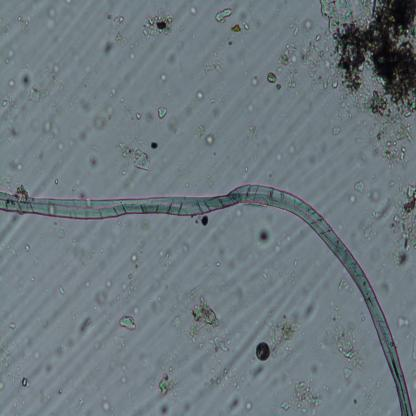Anthropogenic: (0, 182, 416, 414)
Background material: (306, 0, 416, 166), (184, 296, 232, 354), (392, 181, 416, 272), (333, 316, 366, 380), (206, 351, 245, 394), (361, 183, 388, 242), (280, 378, 322, 414), (276, 27, 300, 86), (40, 59, 70, 102), (117, 140, 153, 173), (267, 317, 300, 349), (194, 45, 224, 80), (0, 332, 21, 379), (66, 238, 100, 266), (141, 11, 176, 38), (14, 1, 37, 37), (39, 111, 64, 142), (42, 1, 60, 37), (109, 14, 128, 47), (47, 338, 76, 359), (0, 215, 21, 243), (118, 273, 136, 303), (1, 94, 20, 121), (216, 274, 239, 296), (271, 232, 291, 257), (156, 247, 176, 271), (223, 392, 243, 416), (150, 287, 167, 315), (73, 88, 91, 113), (245, 366, 268, 383), (304, 353, 320, 377), (158, 372, 174, 396), (302, 297, 317, 322), (288, 257, 300, 288), (240, 12, 256, 34), (69, 391, 85, 413), (90, 336, 112, 352), (35, 386, 50, 409), (255, 341, 271, 362), (218, 250, 233, 272), (153, 398, 171, 416), (119, 314, 138, 331), (214, 7, 234, 23), (109, 330, 125, 349), (100, 390, 112, 415), (273, 147, 287, 168), (103, 102, 117, 123), (127, 104, 142, 123), (92, 290, 107, 309), (7, 157, 23, 174), (80, 316, 96, 332), (246, 126, 264, 140), (6, 123, 20, 141), (256, 230, 271, 246), (336, 277, 352, 292), (3, 243, 19, 258), (101, 40, 118, 54), (19, 70, 32, 88), (87, 149, 98, 170), (166, 115, 178, 134), (396, 315, 411, 330), (28, 89, 44, 103), (242, 399, 256, 414), (192, 125, 211, 136), (55, 283, 66, 302), (129, 252, 140, 271), (288, 140, 298, 159), (93, 116, 104, 133), (14, 396, 27, 410), (355, 179, 366, 194), (77, 132, 90, 144), (187, 4, 200, 16), (205, 134, 216, 148), (5, 50, 16, 64), (194, 217, 208, 228), (266, 69, 277, 83), (156, 74, 168, 86), (180, 242, 192, 254), (139, 218, 151, 230), (138, 238, 150, 250), (157, 106, 168, 119), (333, 125, 343, 139), (183, 105, 193, 119), (232, 22, 243, 34), (195, 90, 206, 101), (108, 359, 120, 369), (260, 272, 272, 282), (20, 377, 29, 390), (118, 374, 128, 385), (44, 363, 54, 374), (212, 256, 221, 268), (213, 108, 223, 118), (31, 350, 41, 360), (83, 279, 92, 290), (57, 140, 64, 154), (236, 207, 244, 219), (250, 76, 258, 88), (8, 78, 16, 90), (130, 54, 140, 63), (29, 273, 37, 284), (247, 100, 254, 112), (168, 56, 178, 64), (348, 195, 357, 203), (103, 280, 112, 288), (57, 232, 66, 240), (132, 307, 140, 315), (9, 321, 16, 330), (58, 386, 64, 395), (24, 242, 30, 251), (110, 88, 115, 98), (242, 166, 248, 174), (120, 96, 124, 108), (352, 398, 357, 406), (53, 177, 58, 185), (122, 366, 127, 372), (211, 100, 216, 104)
